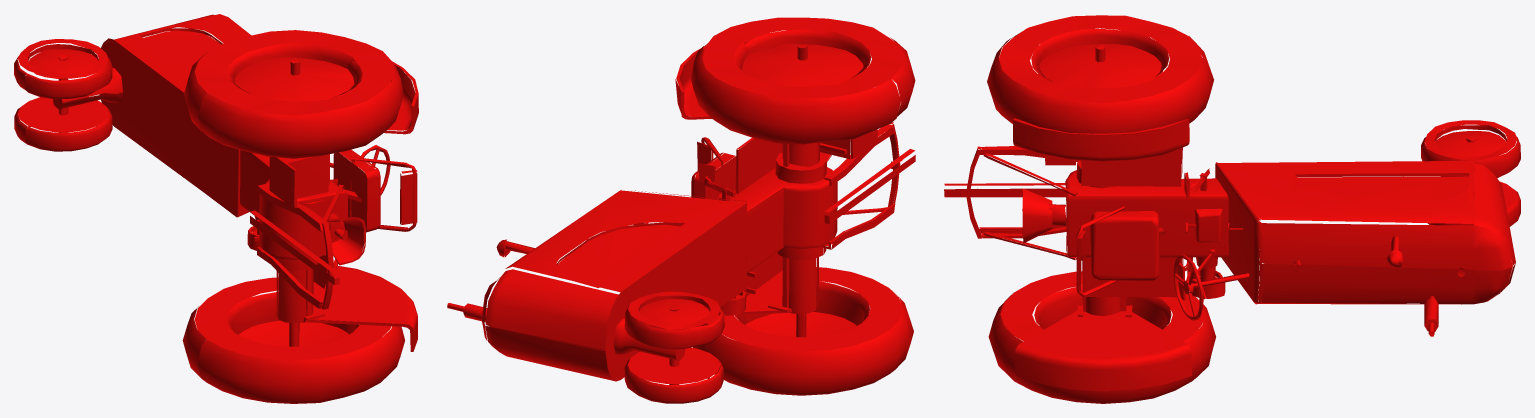
The picture shows the model from 3 angles, left to right: view 1: azimuth 30°, elevation 25°; view 2: azimuth 150°, elevation 25°; view 3: azimuth 270°, elevation 25°; orthographic projection. The views are drawn at different scales.
Parts seen in each view (by area): view 1: Renderer Node; view 2: Renderer Node; view 3: Renderer Node.
Part boxes in pixels (box(x1,y1,x2,y2)): Renderer Node: box(14, 14, 418, 403); Renderer Node: box(447, 17, 915, 403); Renderer Node: box(944, 15, 1520, 403).
Size of the model in its own units: 1.17 by 1.22 by 1.96.
Materials: 1 (1 with a texture image).
